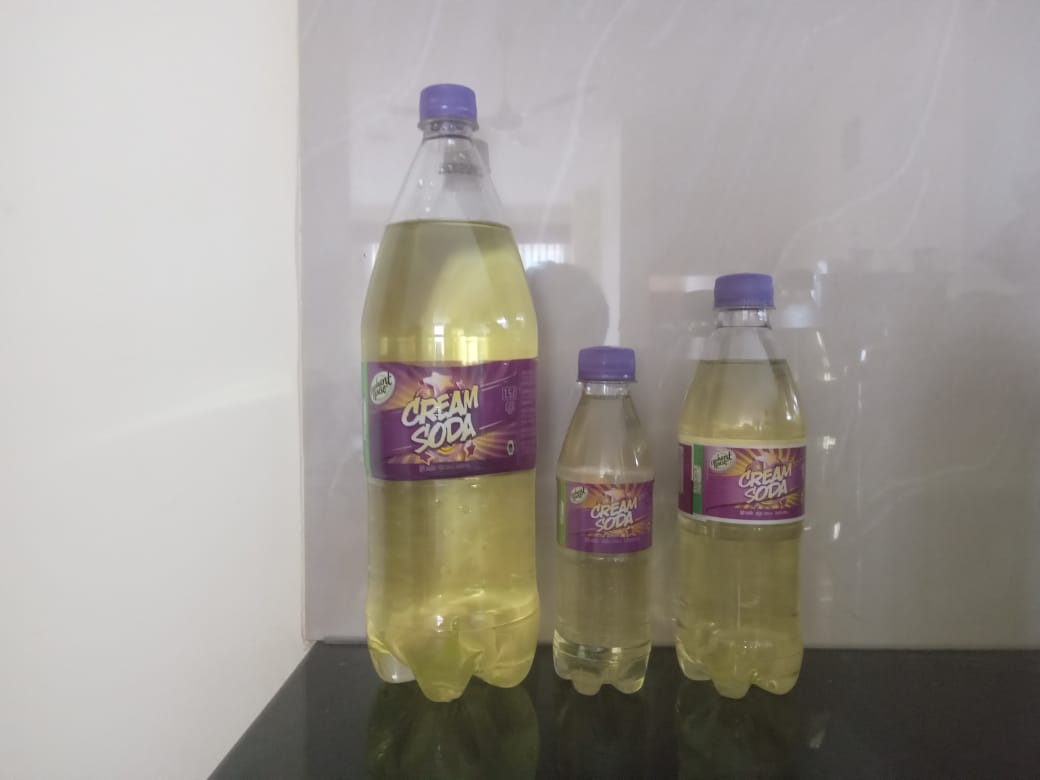L: (352, 80, 543, 712)
S: (667, 272, 812, 699)
Xs: (550, 342, 660, 702)
